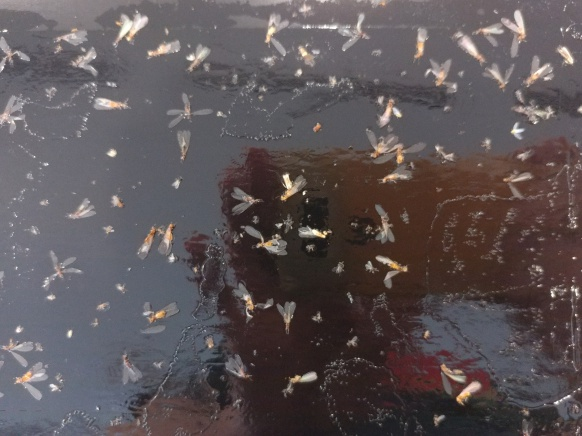flying termite: (230, 276, 275, 328), (270, 166, 313, 203), (501, 8, 532, 58), (166, 94, 214, 126), (110, 347, 145, 386), (376, 252, 411, 290), (370, 92, 406, 127), (138, 295, 180, 324), (455, 378, 488, 414), (523, 53, 554, 90), (280, 368, 319, 397), (226, 182, 261, 213), (263, 13, 288, 56), (435, 360, 467, 392), (60, 196, 97, 223), (484, 62, 516, 93), (223, 353, 253, 386), (376, 164, 415, 189), (276, 295, 300, 335), (455, 33, 483, 67), (89, 94, 135, 114), (473, 17, 503, 47), (144, 38, 181, 60), (172, 129, 195, 164), (252, 237, 290, 258), (136, 224, 156, 261), (410, 24, 428, 64), (111, 16, 131, 52), (297, 223, 335, 241), (158, 220, 176, 255)
